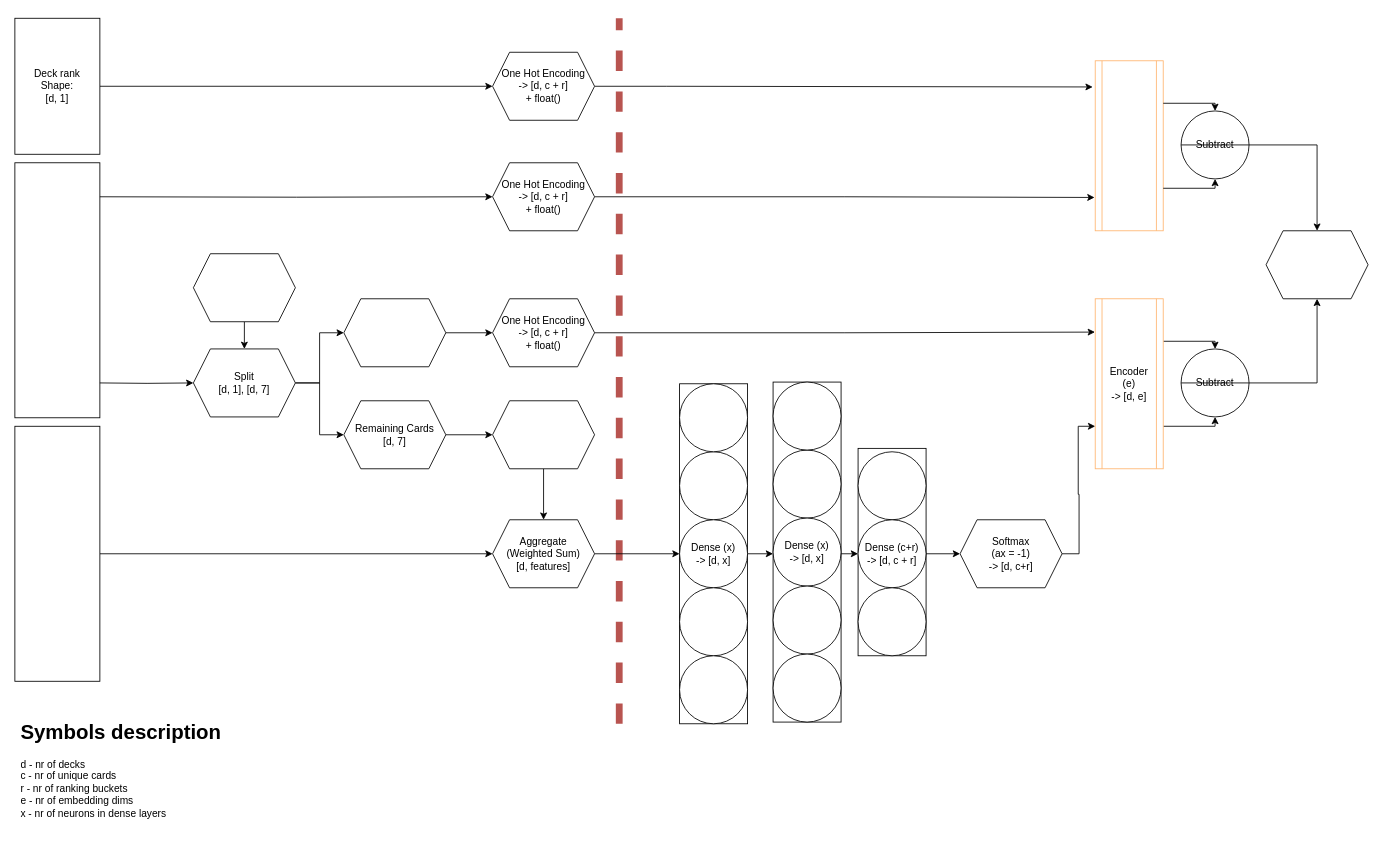
This 1383x857 diagram has some shape labels left out. Here are the shapes that lost their labels. From the top down, the centre of each, then its label:
At point (1128, 145): "Encoder (e) -> [d,e]".
At point (1316, 264): "MSE (with point 0,0,..,0)".
At point (57, 290): "Decks Shape: [d, 8]".
At point (244, 287): "Random Integer (0,8)".
At point (394, 332): "Random Card [d, 1]".
At point (543, 434): "ToVec() [d, 7, features]".
At point (57, 553): "Graph Nodes Shape: [c, c] (Adj. matrix)".
